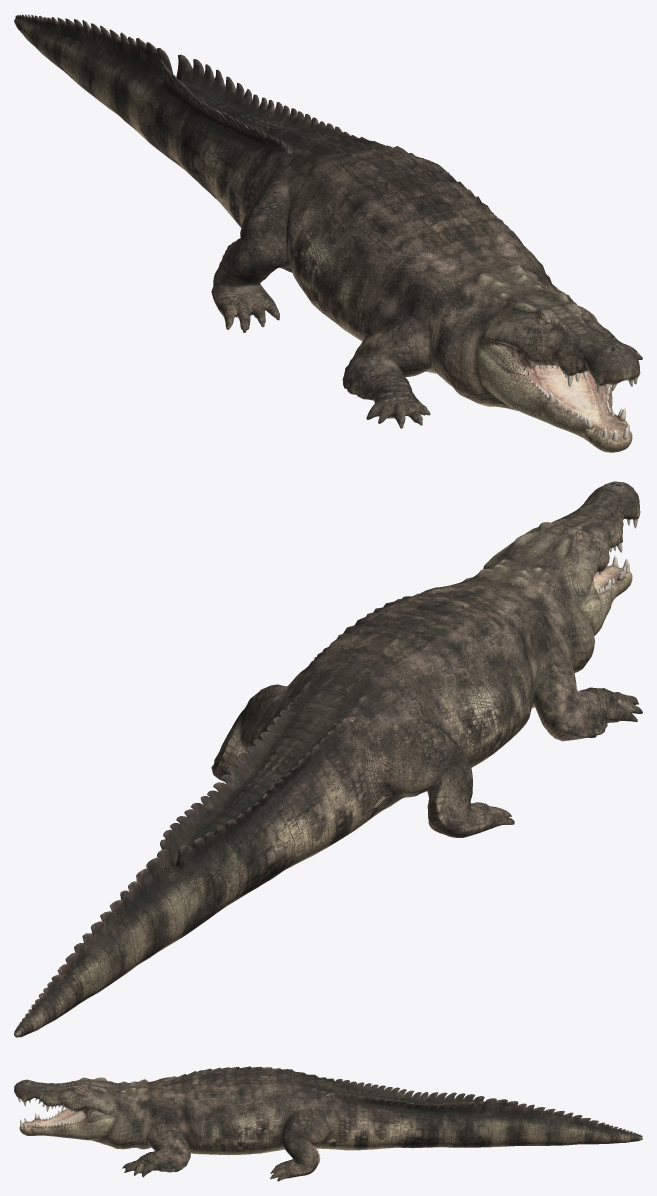
Rendered from nile_crocodile.glb.
The picture shows the model from 3 angles, top to bottom: view 1: azimuth 30°, elevation 25°; view 2: azimuth 150°, elevation 25°; view 3: azimuth 270°, elevation 25°; orthographic projection. The views are drawn at different scales.
Visible parts, largest first — view 1: Object_4; view 2: Object_4; view 3: Object_4.
Boxes of the visible parts, x1=… form: Object_4: x1=14, y1=14, x2=642, y2=452; Object_4: x1=14, y1=481, x2=642, y2=1037; Object_4: x1=14, y1=1066, x2=642, y2=1181.
Size of the model in its own units: 2.76 by 1.3 by 10.15.
Materials: 1 (1 with a texture image).
